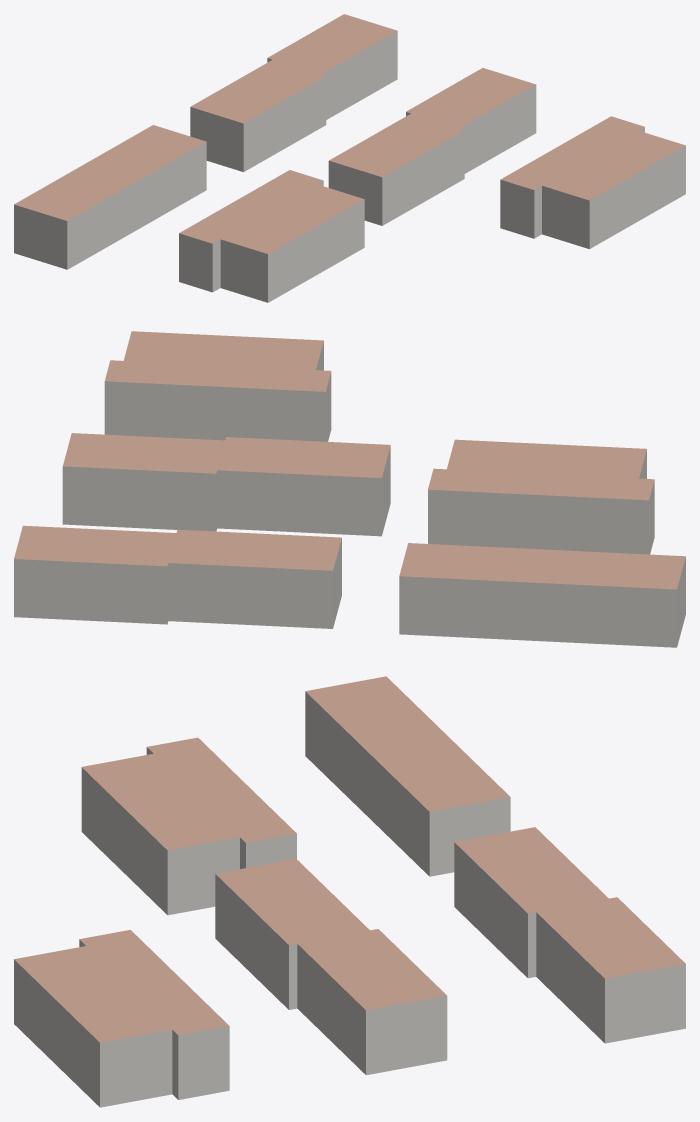
Rendered from gridID_118.dae.
3 renders of one model, top to bottom at view 1: azimuth 30°, elevation 25°; view 2: azimuth 150°, elevation 25°; view 3: azimuth 270°, elevation 25°, orthographic. The views are drawn at different scales.
Parts seen in each view (by area): view 1: model_gridID_118_w169923370, model_gridID_118_w169923368, model_gridID_118_w169922751, model_gridID_118_w169922750, model_gridID_118_w169922745_001; view 2: model_gridID_118_w169923368, model_gridID_118_w169923370, model_gridID_118_w169922745_001, model_gridID_118_w169922750, model_gridID_118_w169922751; view 3: model_gridID_118_w169923368, model_gridID_118_w169923370, model_gridID_118_w169922751, model_gridID_118_w169922750, model_gridID_118_w169922745_001.
Boxes of the visible parts, x1,y1,x2,y2 form: model_gridID_118_w169923370: (190, 14, 397, 172); model_gridID_118_w169923368: (328, 68, 536, 225); model_gridID_118_w169922751: (500, 116, 685, 249); model_gridID_118_w169922750: (179, 170, 364, 302); model_gridID_118_w169922745_001: (14, 125, 206, 269); model_gridID_118_w169923368: (62, 433, 390, 536); model_gridID_118_w169923370: (14, 525, 341, 628); model_gridID_118_w169922745_001: (399, 543, 685, 647); model_gridID_118_w169922750: (428, 439, 654, 554); model_gridID_118_w169922751: (104, 331, 331, 441); model_gridID_118_w169923368: (215, 859, 447, 1075); model_gridID_118_w169923370: (454, 827, 685, 1043); model_gridID_118_w169922751: (14, 930, 229, 1107); model_gridID_118_w169922750: (81, 737, 296, 915); model_gridID_118_w169922745_001: (305, 676, 510, 876).
Bounding box in the file's own units: 90.95 × 70.46 × 7.5.
